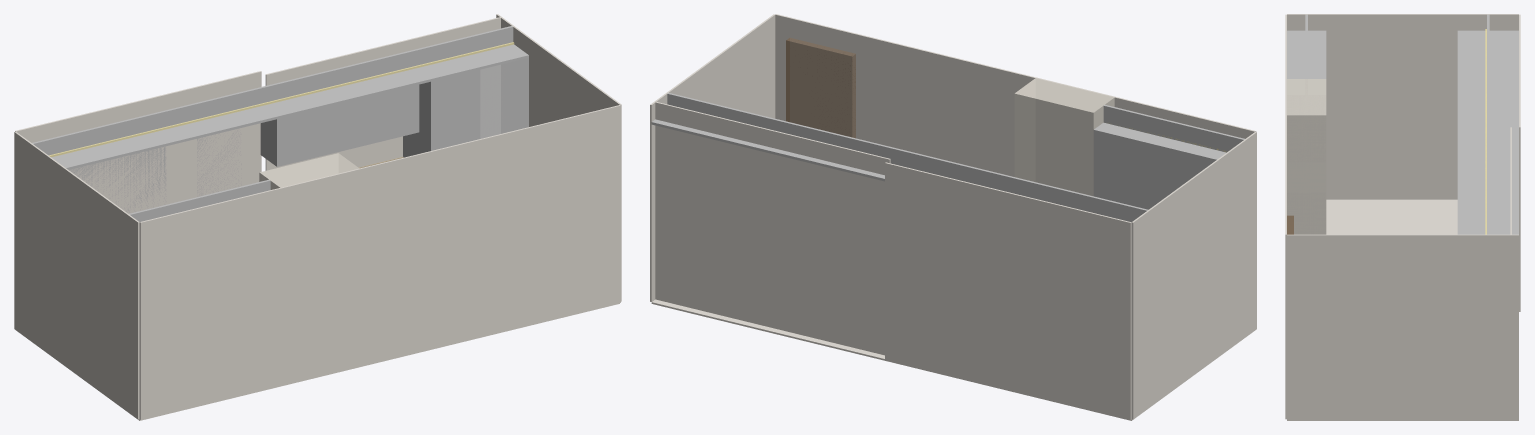
Rendered from cocina.obj.
3 views of the same model, side by side, from view 1: azimuth 30°, elevation 25°; view 2: azimuth 150°, elevation 25°; view 3: azimuth 270°, elevation 25° (orthographic). The views are drawn at different scales.
Visible parts, largest first — view 1: Pared Sur, Pared Oeste, Pared Norte izq, Cove Norte, Cornisa Norte, Pared Este, Escobero, Pared Norte der, Frigorífico, Vajilla izq, Campana/Especias, Vajilla der (+7 smaller); view 2: Pared Norte izq, Pared Norte der, Pared Sur, Pared Oeste, Columna azulejo, Cove Norte, Pared Este, Puerta, Repisa electrodomésticos, Cove Sur, Vitrina, Suelo (+2 smaller); view 3: Pared Este, Pared Oeste, Cornisa Norte, Columna azulejo, Suelo, Cornisa Sur, Pared Sur, Cove Norte, Pared Norte izq, LED Norte.
Part boxes in pixels (x1=…): Pared Sur: x1=139, y1=105, x2=620, y2=419; Pared Oeste: x1=14, y1=131, x2=139, y2=419; Pared Norte izq: x1=15, y1=71, x2=261, y2=213; Cove Norte: x1=32, y1=26, x2=513, y2=155; Cornisa Norte: x1=51, y1=44, x2=528, y2=169; Pared Este: x1=496, y1=14, x2=621, y2=301; Escobero: x1=403, y1=70, x2=480, y2=157; Pared Norte der: x1=265, y1=17, x2=500, y2=170; Frigorífico: x1=480, y1=58, x2=528, y2=138; Vajilla izq: x1=260, y1=107, x2=325, y2=166; Campana/Especias: x1=325, y1=95, x2=374, y2=154; Vajilla der: x1=374, y1=84, x2=419, y2=143; Pared Norte izq: x1=885, y1=162, x2=1131, y2=419; Pared Norte der: x1=655, y1=102, x2=890, y2=355; Pared Sur: x1=775, y1=14, x2=1256, y2=195; Pared Oeste: x1=1131, y1=132, x2=1256, y2=419; Columna azulejo: x1=1014, y1=78, x2=1114, y2=196; Cove Norte: x1=667, y1=93, x2=1148, y2=221; Pared Este: x1=650, y1=14, x2=775, y2=301; Puerta: x1=786, y1=38, x2=855, y2=138; Repisa electrodomésticos: x1=1093, y1=132, x2=1142, y2=207; Cove Sur: x1=1103, y1=104, x2=1244, y2=152; Vitrina: x1=1142, y1=144, x2=1188, y2=209; Suelo: x1=651, y1=299, x2=1241, y2=420; Pared Este: x1=1287, y1=234, x2=1518, y2=419; Pared Oeste: x1=1287, y1=14, x2=1518, y2=199; Cornisa Norte: x1=1457, y1=30, x2=1518, y2=234; Columna azulejo: x1=1287, y1=79, x2=1326, y2=234; Suelo: x1=1287, y1=199, x2=1518, y2=420; Cornisa Sur: x1=1287, y1=30, x2=1326, y2=78; Pared Sur: x1=1285, y1=14, x2=1286, y2=419; Cove Norte: x1=1487, y1=14, x2=1489, y2=234; Pared Norte izq: x1=1519, y1=14, x2=1520, y2=311; LED Norte: x1=1485, y1=29, x2=1486, y2=234.
Bounding box in the file's own units: 5.98 × 2.35 × 2.69.
